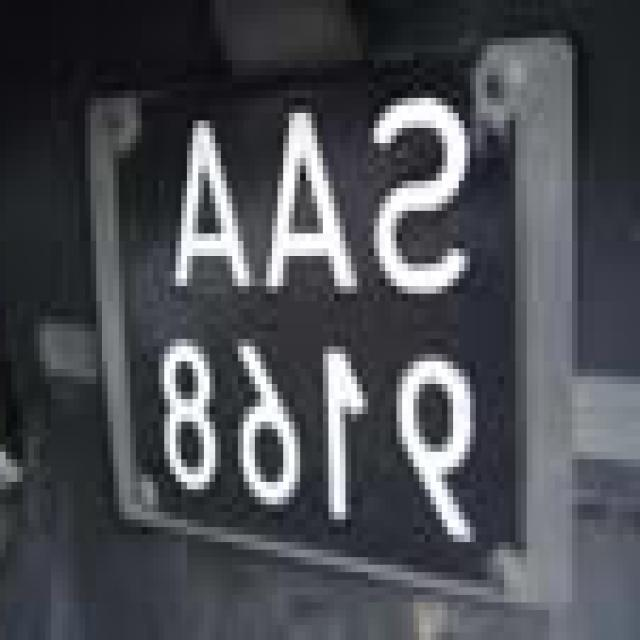pl_license_plate: (124, 68, 516, 557)
